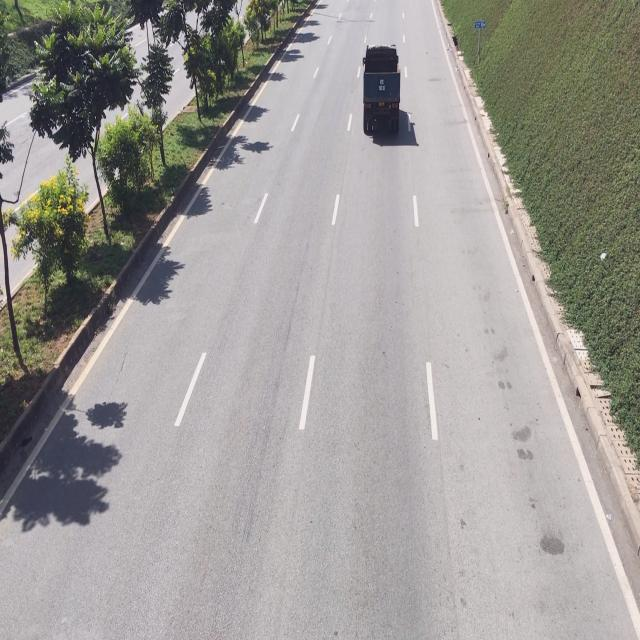truck: (362, 42, 401, 140)
